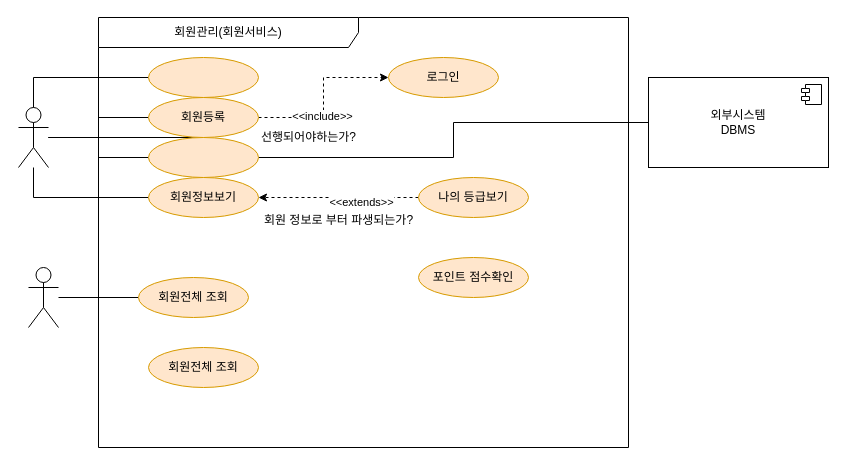
Image size: 846x465. Some labels were removed from this diagram. The shapes that lost their labels are listed below. From the top down, each one's centre as x and y in pixels, then its label:
pixel 203 77: 회원정보수정
pixel 33 137: 이용자
pixel 203 157: 회원탈퇴
pixel 43 297: 관리자
